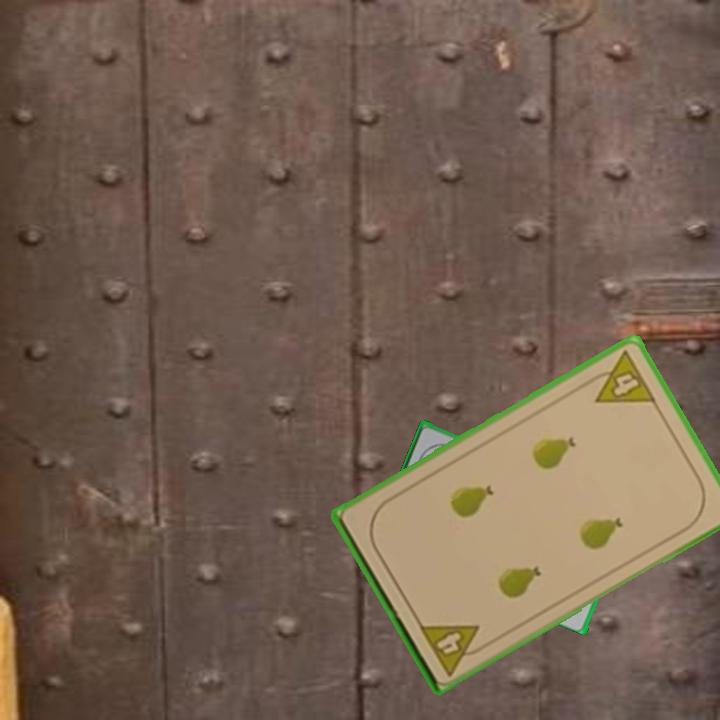4p: (581, 347, 659, 406), (415, 620, 491, 679)
